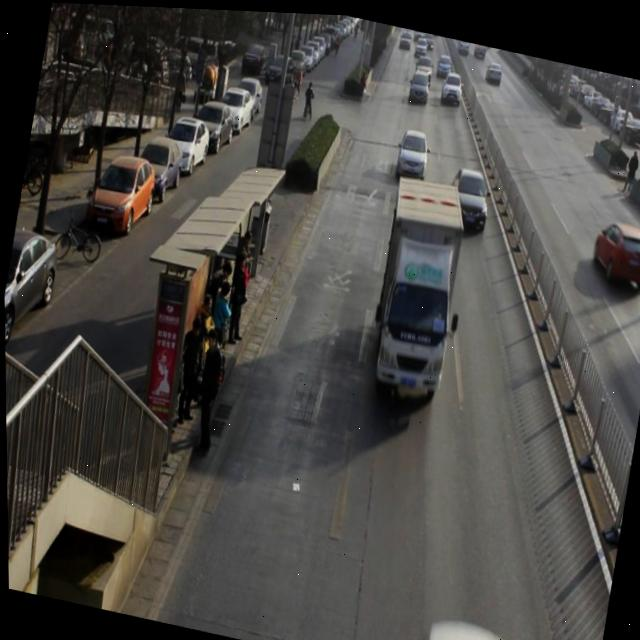bus: (357, 171, 474, 416)
car: (444, 159, 496, 231), (591, 218, 640, 290), (391, 123, 434, 182), (437, 68, 467, 108), (404, 68, 432, 105)
